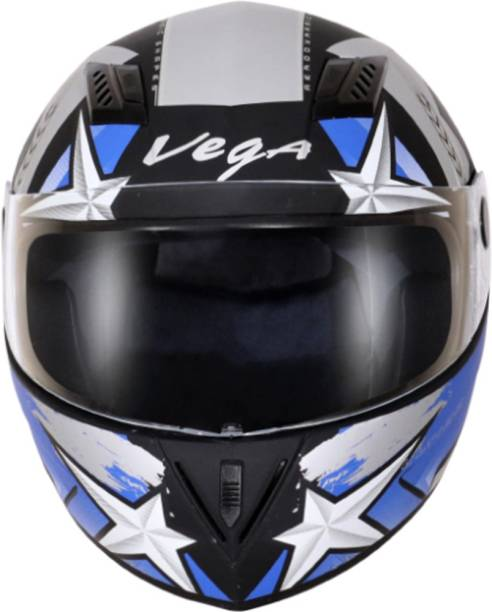with_helmet: (2, 1, 492, 595)
